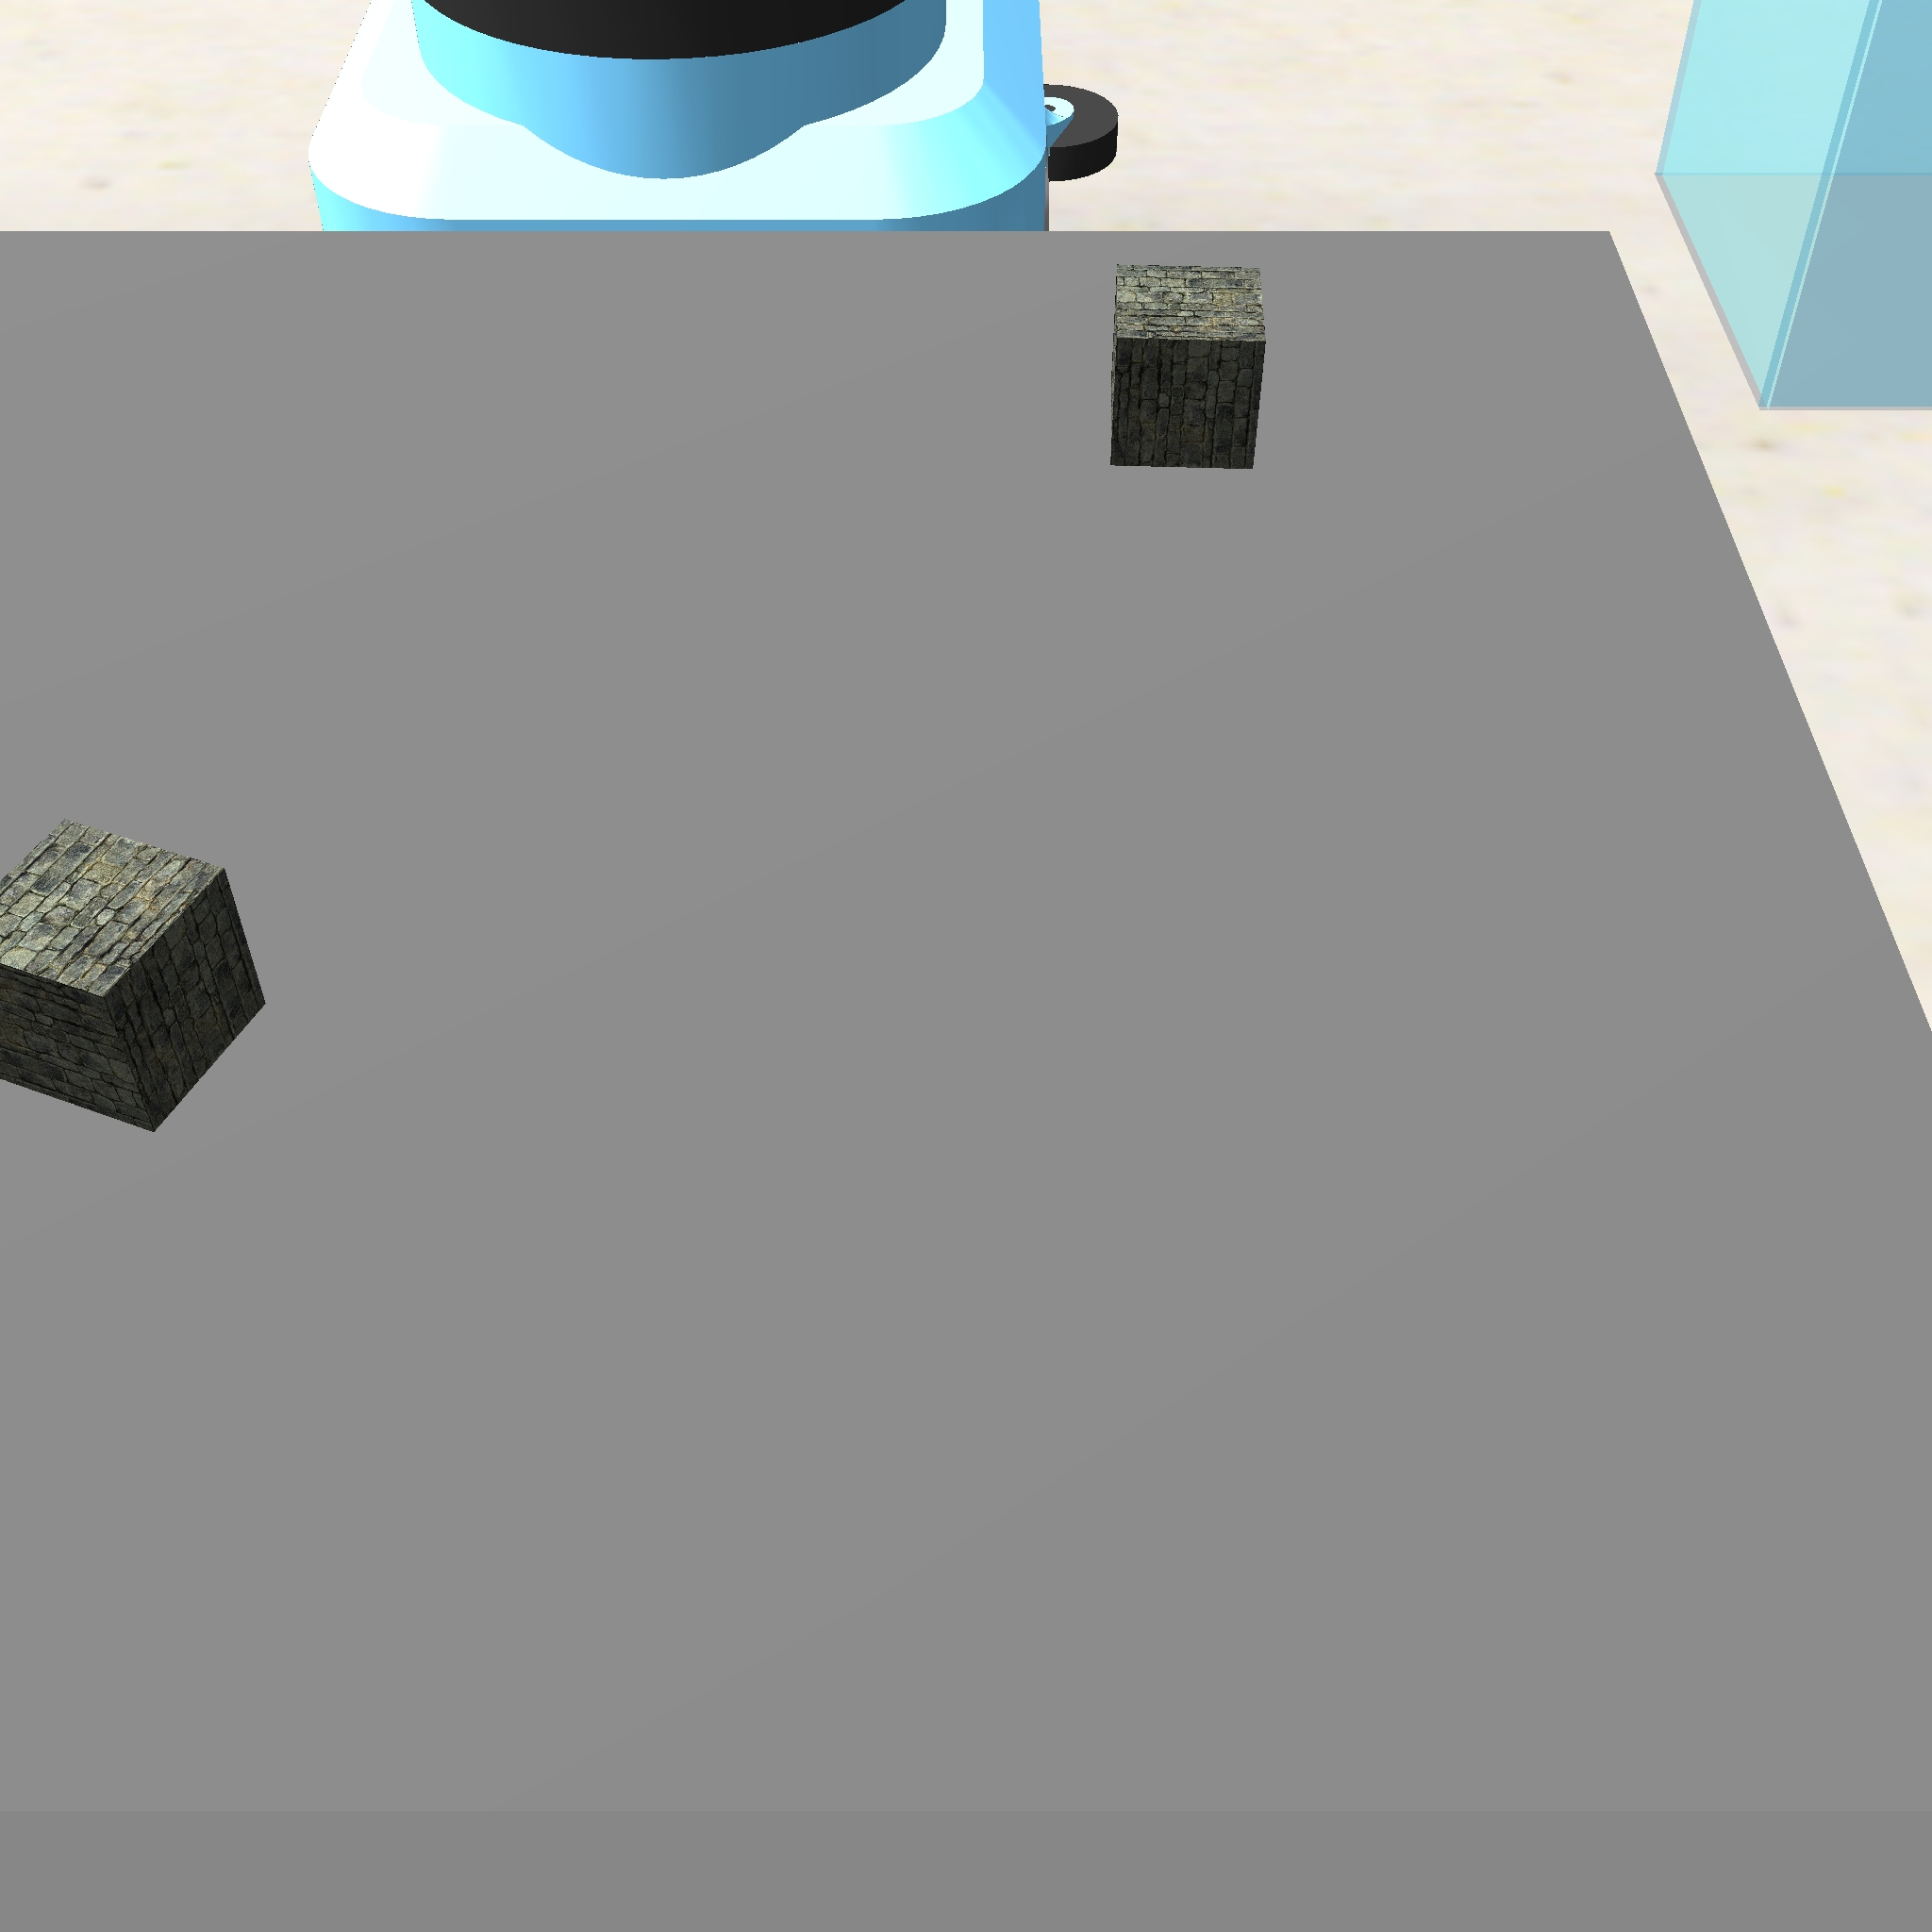cube: (0, 812, 278, 1148), (1099, 251, 1281, 476)
